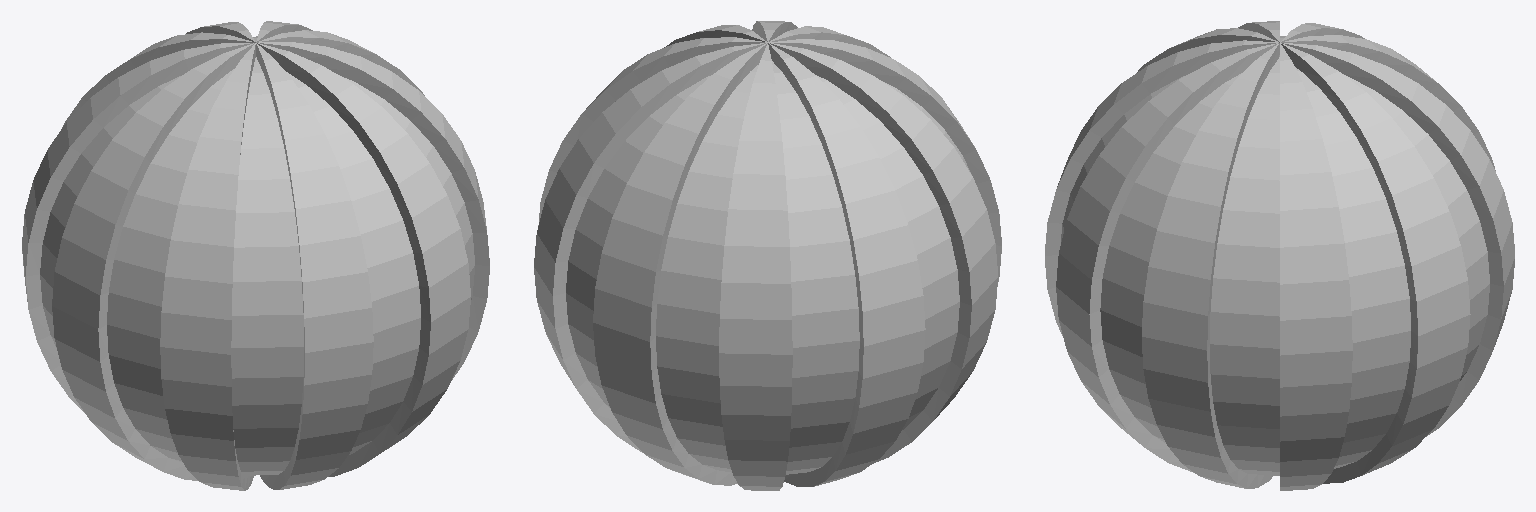
Rendered from ballMeshTest.obj.
3 views of the same model, side by side, from view 1: azimuth 30°, elevation 25°; view 2: azimuth 150°, elevation 25°; view 3: azimuth 270°, elevation 25° (orthographic).
Parts seen in each view (by area): view 1: pSphere1; view 2: pSphere1; view 3: pSphere1.
Boxes of the visible parts, <box> form: pSphere1: <box>22,21,489,490</box>; pSphere1: <box>534,21,1001,490</box>; pSphere1: <box>1045,21,1514,490</box>.
Size of the model in its own units: 1 by 1 by 1.